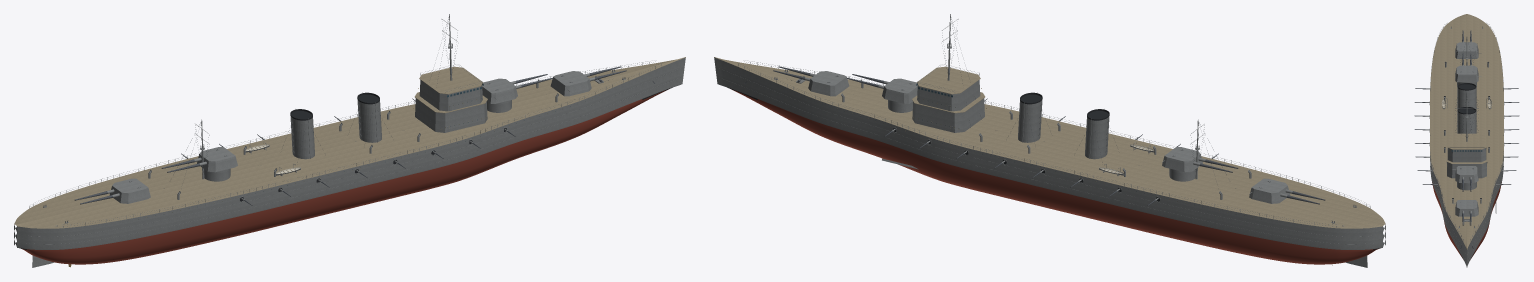
File: kongo.glb
3 views of the same model, side by side, from view 1: azimuth 30°, elevation 25°; view 2: azimuth 150°, elevation 25°; view 3: azimuth 270°, elevation 25° (orthographic). The views are drawn at different scales.
Visible parts, largest first — view 1: Kongo class; view 2: Kongo class; view 3: Kongo class.
Boxes of the visible parts, x1,y1,x2,y2 form: Kongo class: [14, 14, 685, 267]; Kongo class: [714, 14, 1385, 267]; Kongo class: [1414, 14, 1519, 267].
Size of the model in its own units: 214 by 47.16 by 39.86.
8 materials, 2 textured.
